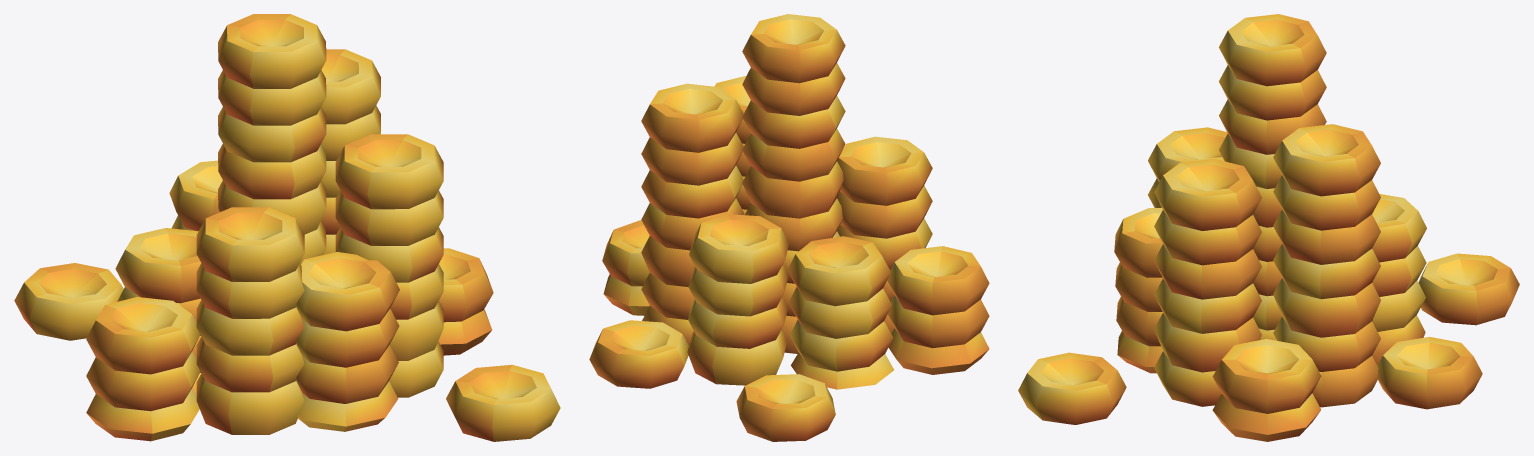
Rendered from dungeon-coins.glb.
The picture shows the model from 3 angles, left to right: view 1: azimuth 30°, elevation 25°; view 2: azimuth 150°, elevation 25°; view 3: azimuth 270°, elevation 25°; orthographic projection. The views are drawn at different scales.
Parts seen in each view (by area): view 1: dungeon-coins; view 2: dungeon-coins; view 3: dungeon-coins.
Part boxes in pixels (bbox=[...]): dungeon-coins: bbox=[14, 14, 560, 441]; dungeon-coins: bbox=[589, 14, 989, 441]; dungeon-coins: bbox=[1018, 14, 1519, 441].
Bounding box in the file's own units: 1.08 × 0.8677 × 1.24.
Materials: 1 (1 with a texture image).
